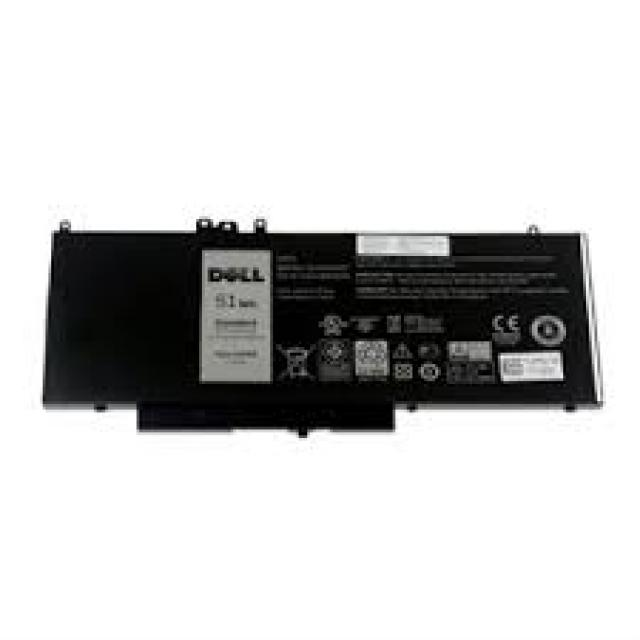non-organic waste: (39, 212, 604, 438)
